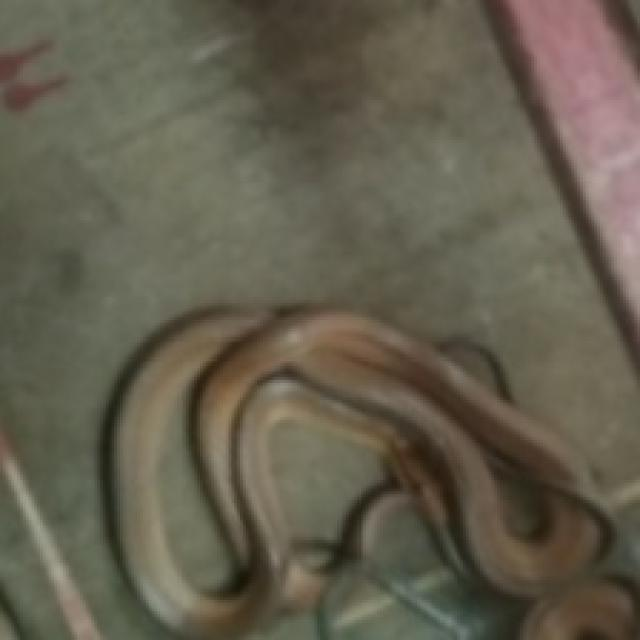red-tailed green ratsnake: (100, 306, 637, 637), (103, 306, 634, 637)
